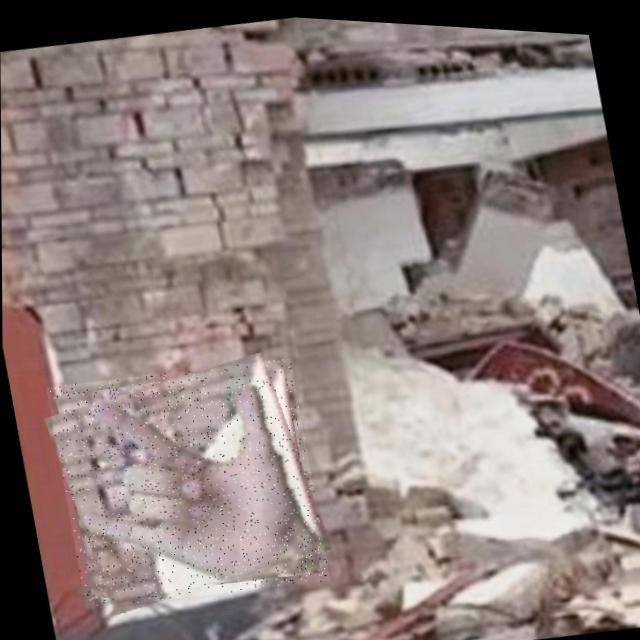Person in Rubble: (45, 343, 330, 619)
